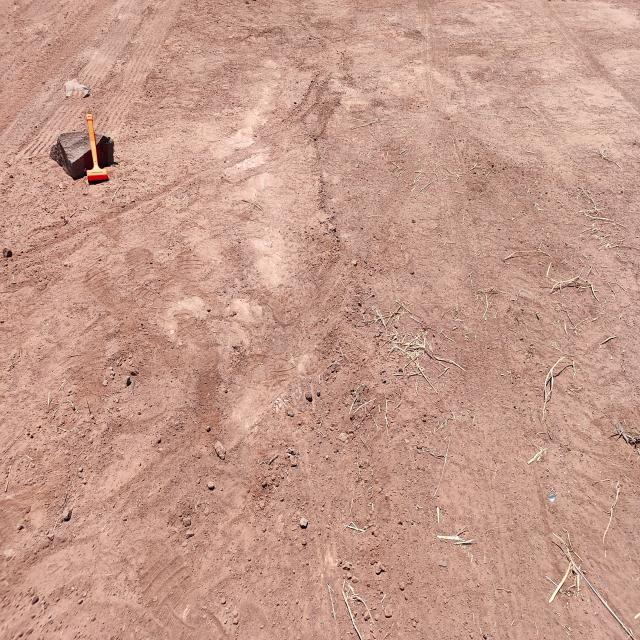Orange_hammer: (84, 112, 108, 183)
